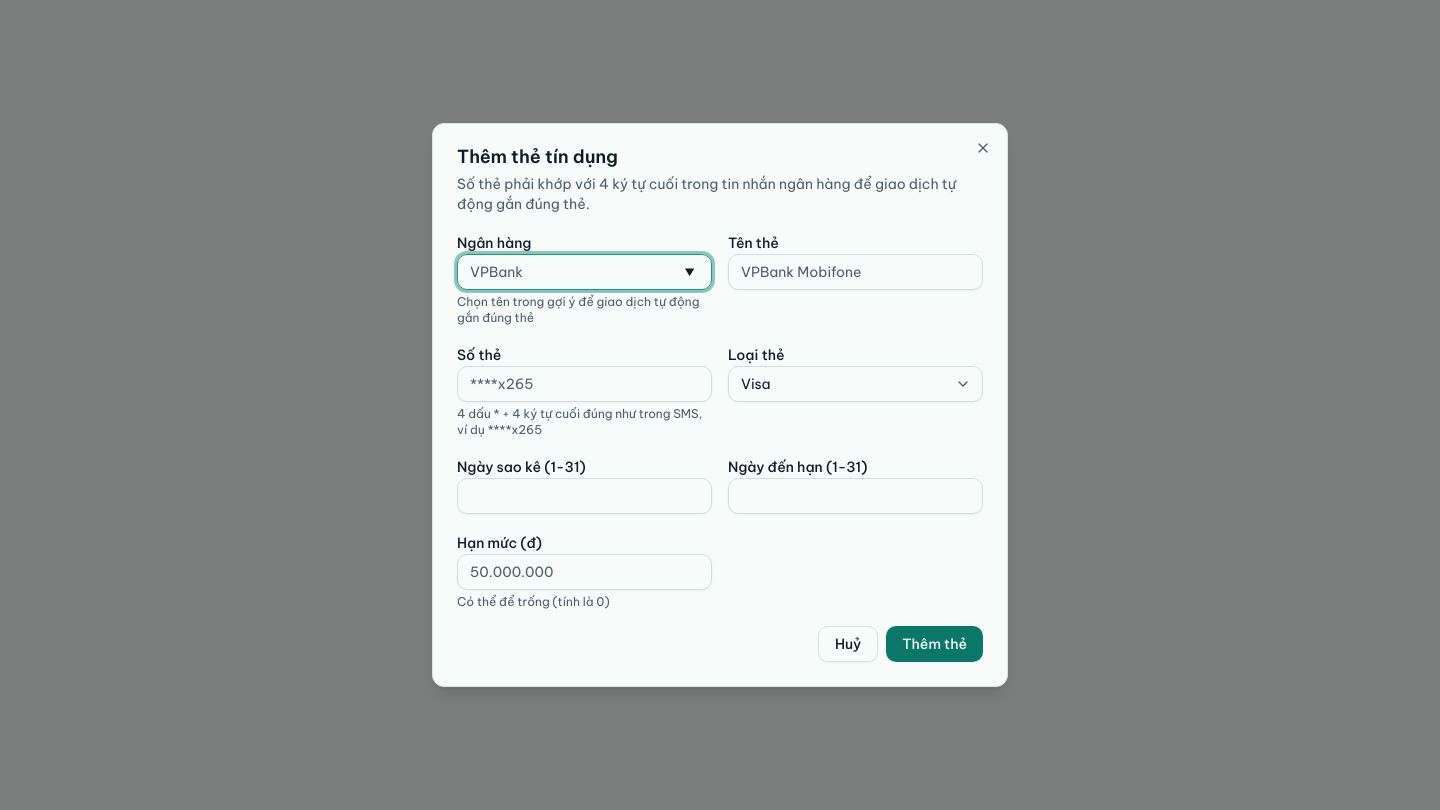
Test: CardFormDialog — thêm thẻ › ô lỗi có aria-invalid nối với thông báo; sửa ô đó thì lỗi biến mất
Click the button "Thêm thẻ".
click(935, 644)  # box [886,626,983,662]
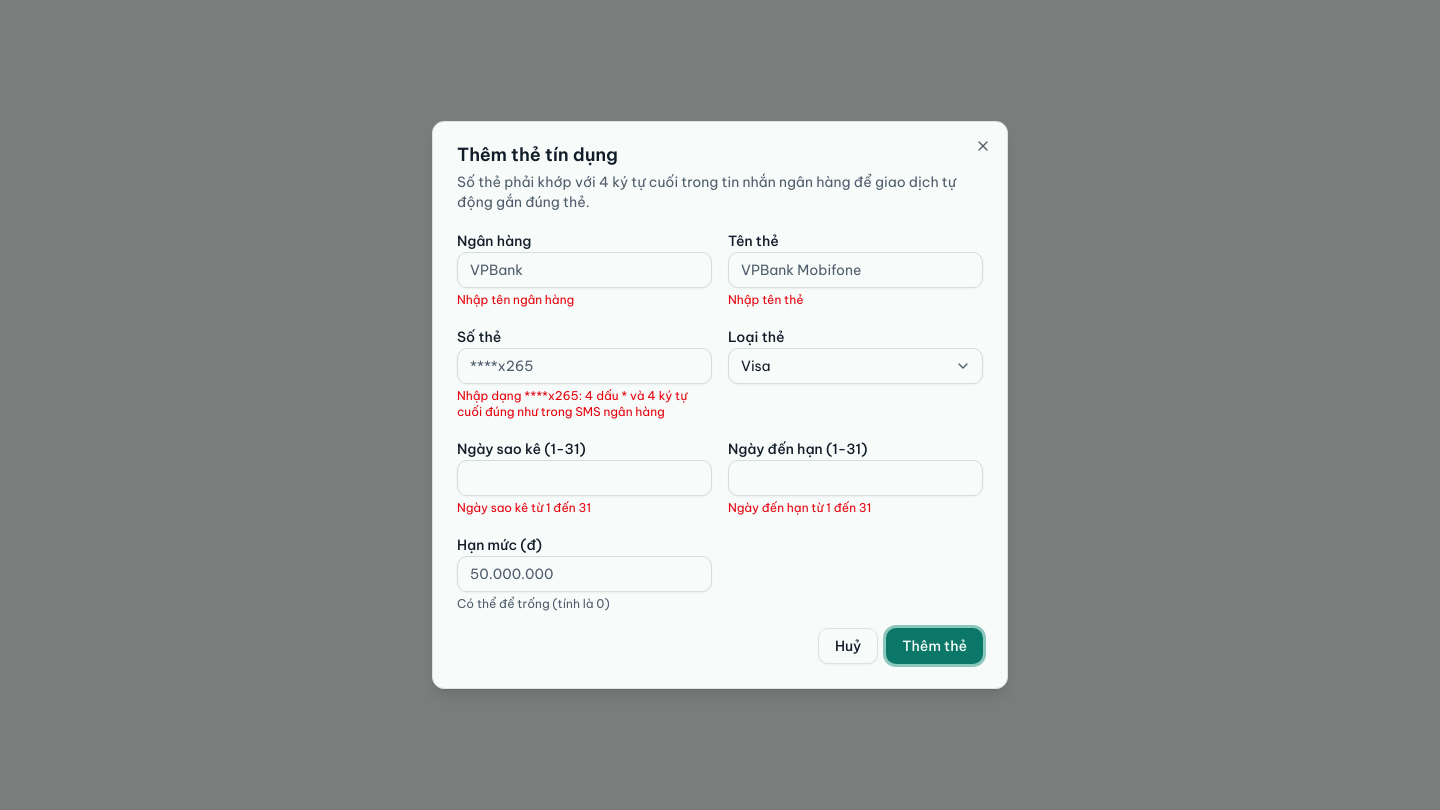
Result: the message "Nhập dạng ****x265: 4 dấu * và 4 ký tự cuối đúng như trong SMS ngân hàng" is shown at [457,388,712,420]
Type "*" into the field labelled "Số thẻ".
click(584, 366); type("*")  # box [457,348,712,384]
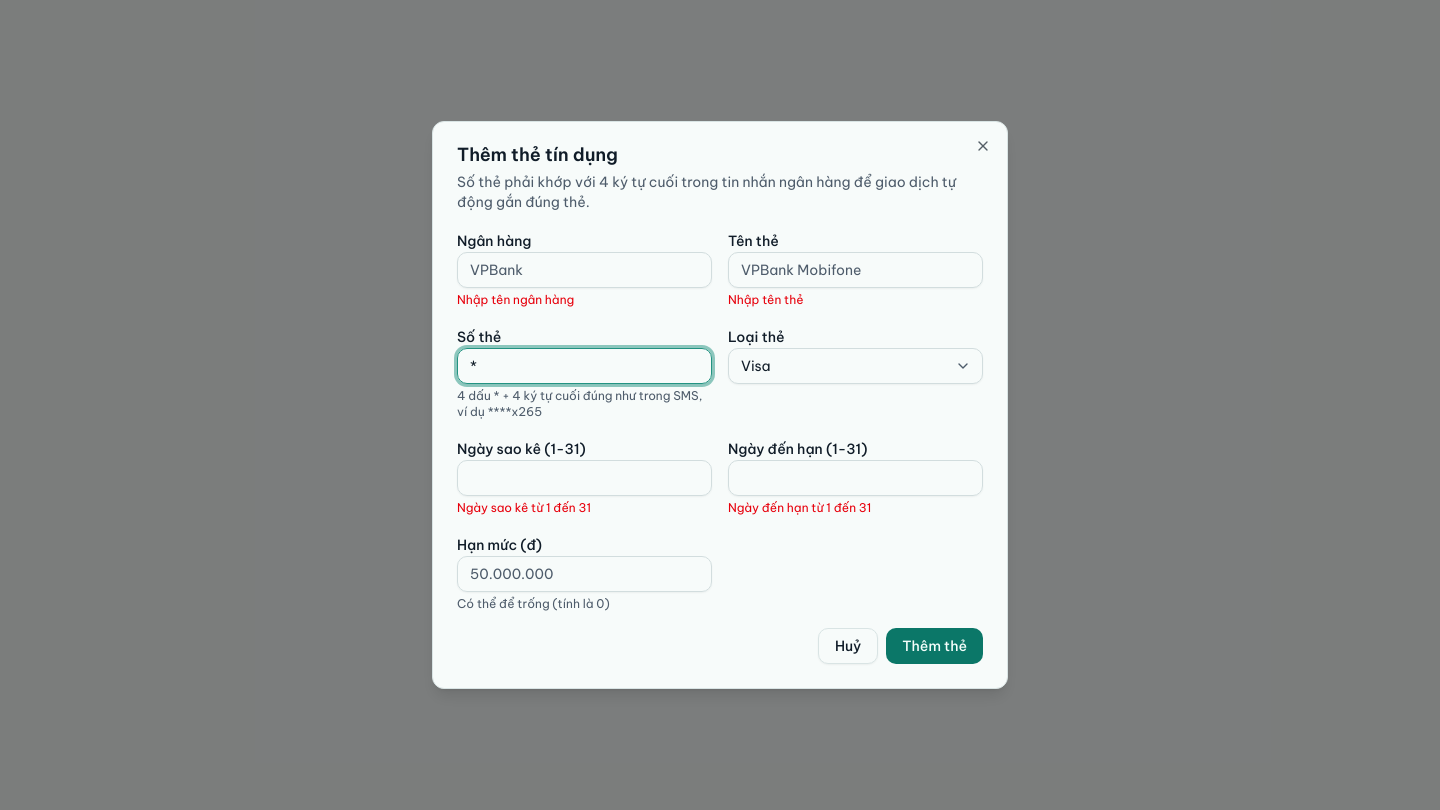
Result: the message with id "card-number-error" is gone
